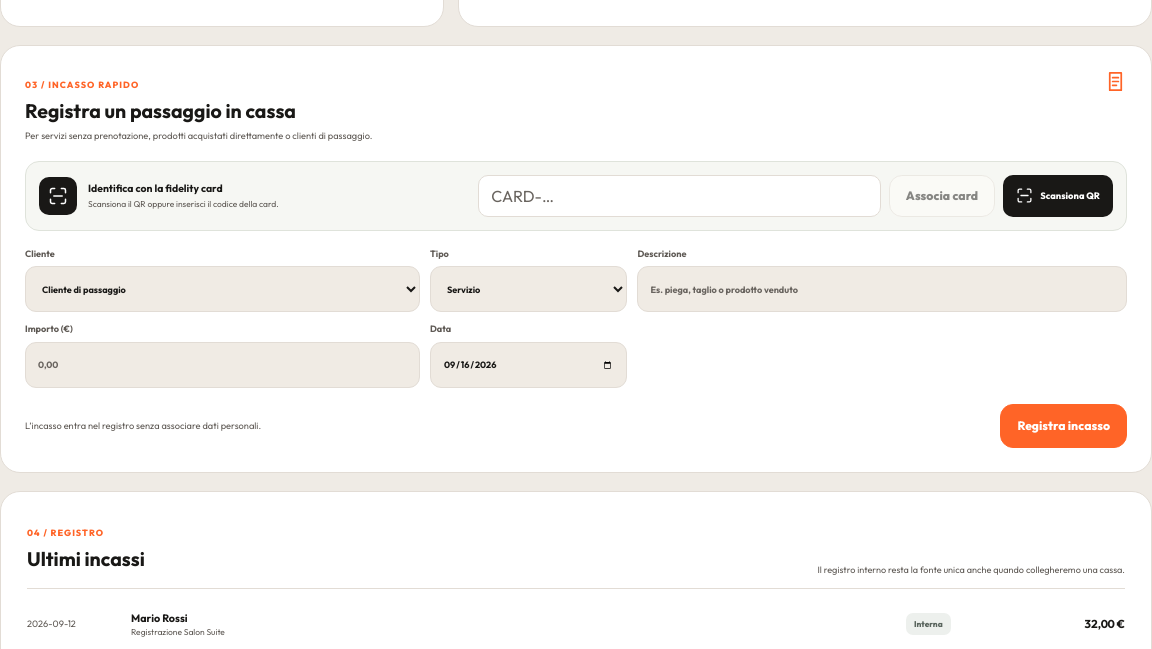
it: CashIntegrationsPage › registra un incasso rapido associato al cliente
This screenshot has width=1152, height=649.
(page scrolled)
Select "Anna Verdi · account app" in the dropdown labelled "Cliente": x=222, y=289 [25, 266, 420, 312]
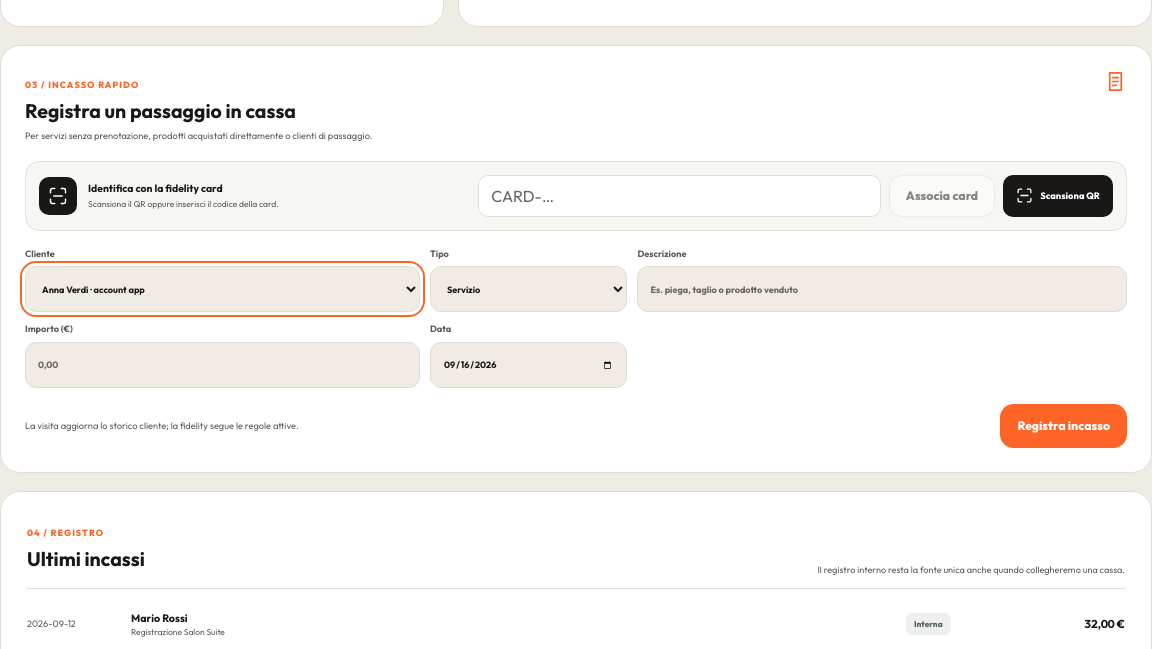
In the field labelled "Descrizione": x=882, y=289 [637, 266, 1127, 312], type "Taglio diretto"
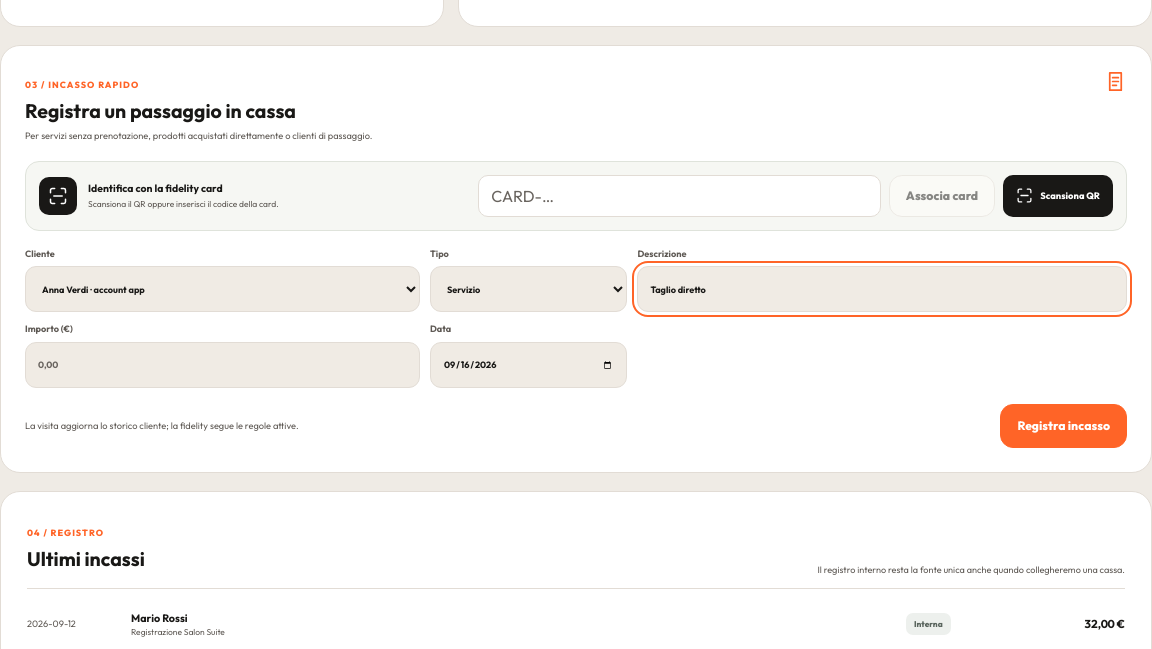
In the field labelled "Importo (€)": x=222, y=365 [25, 342, 420, 388], type "24"
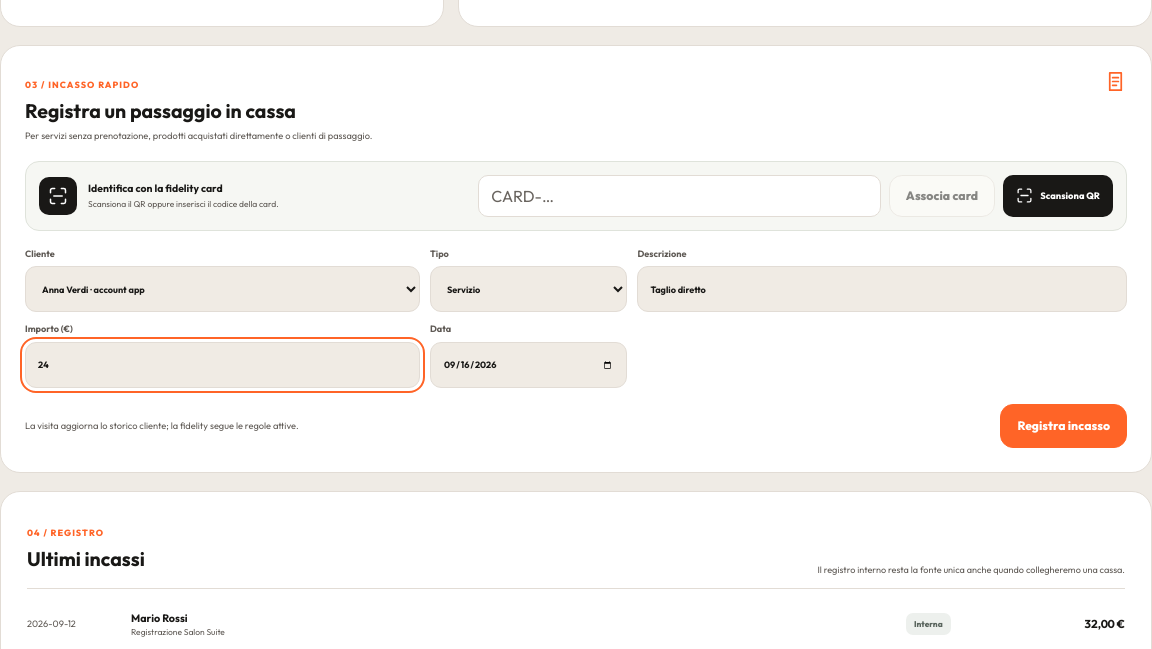
Click the button "Registra incasso": x=1064, y=426 [1000, 404, 1127, 448]
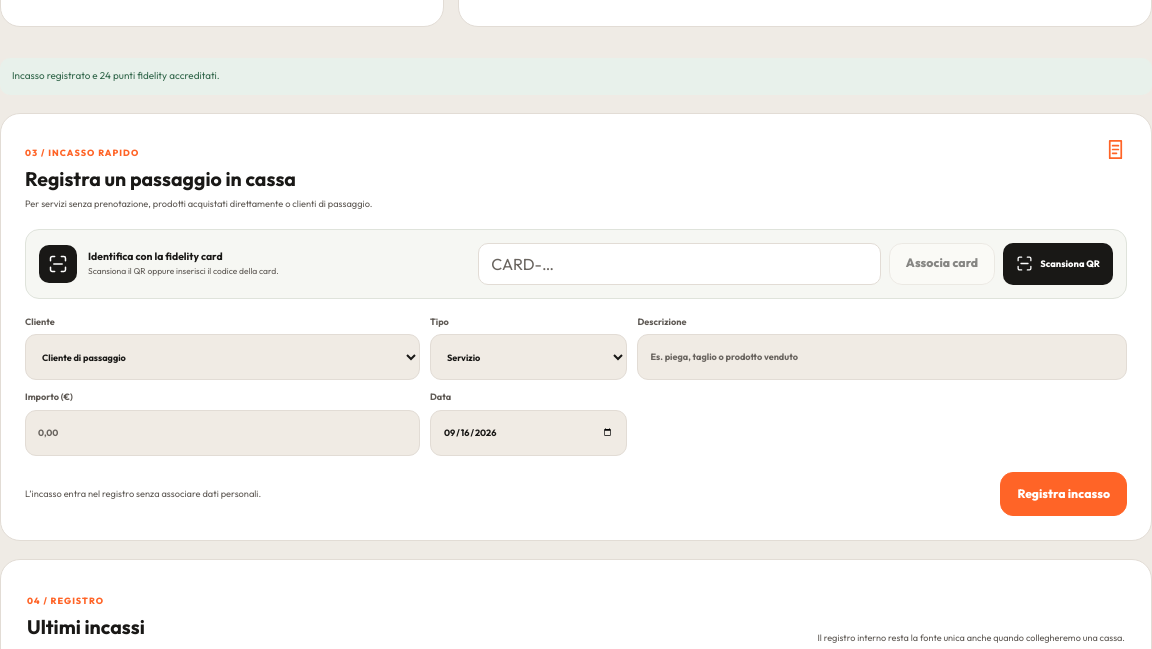
Expected: the text "Incasso registrato e 24 punti fidelity accreditati." is shown, [0, 58, 1151, 95]
